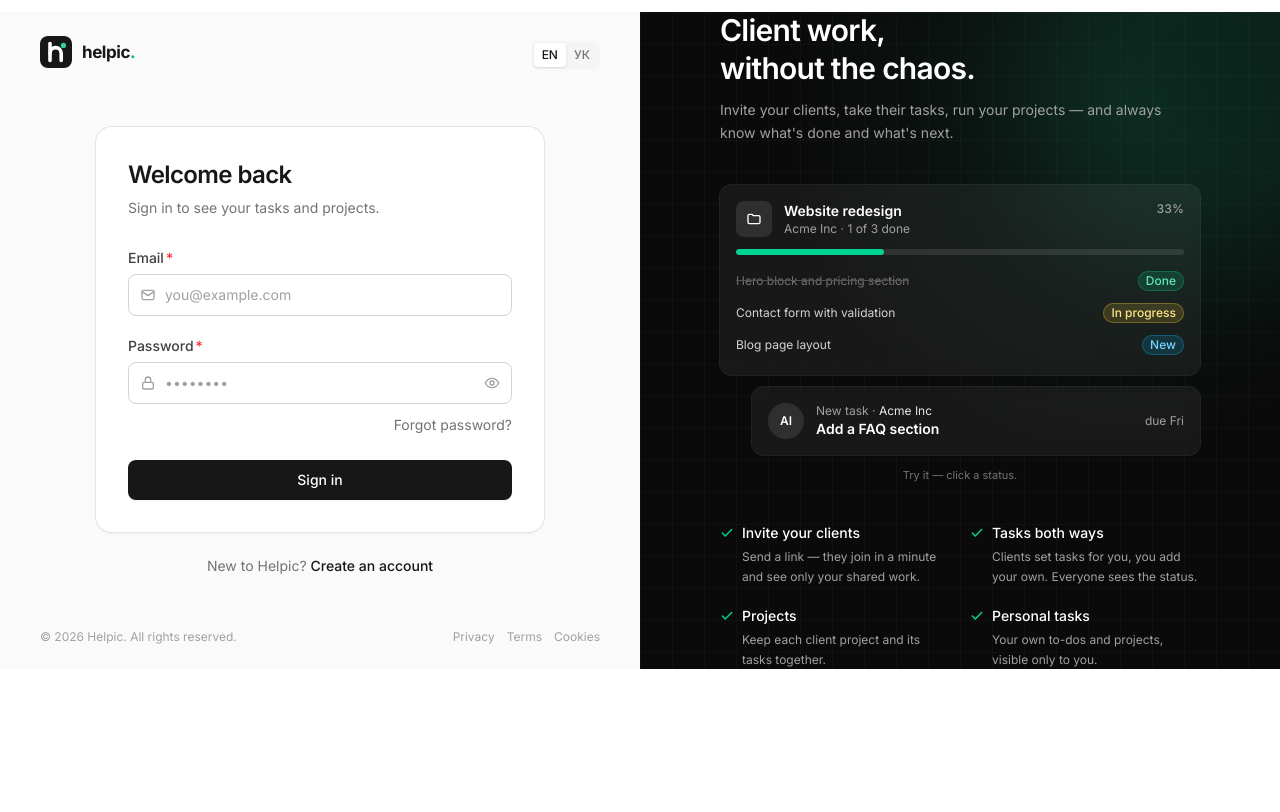
it: LoginView › shows a refused sign-in on the form
In the field labelled "Email*": x=320, y=295 [128, 274, 512, 316], type "olena@example.test"
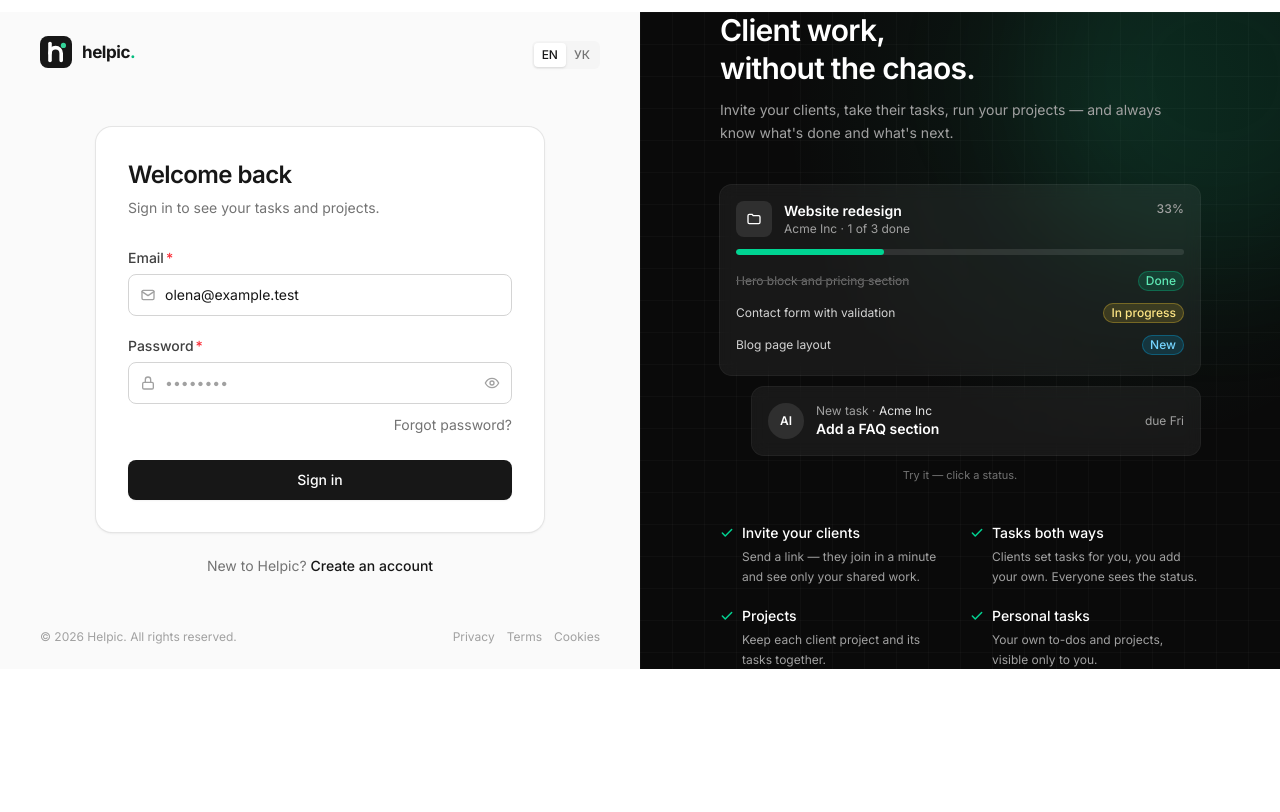
In the password field labelled "Password*": x=320, y=383 [128, 362, 512, 404], type "nope"
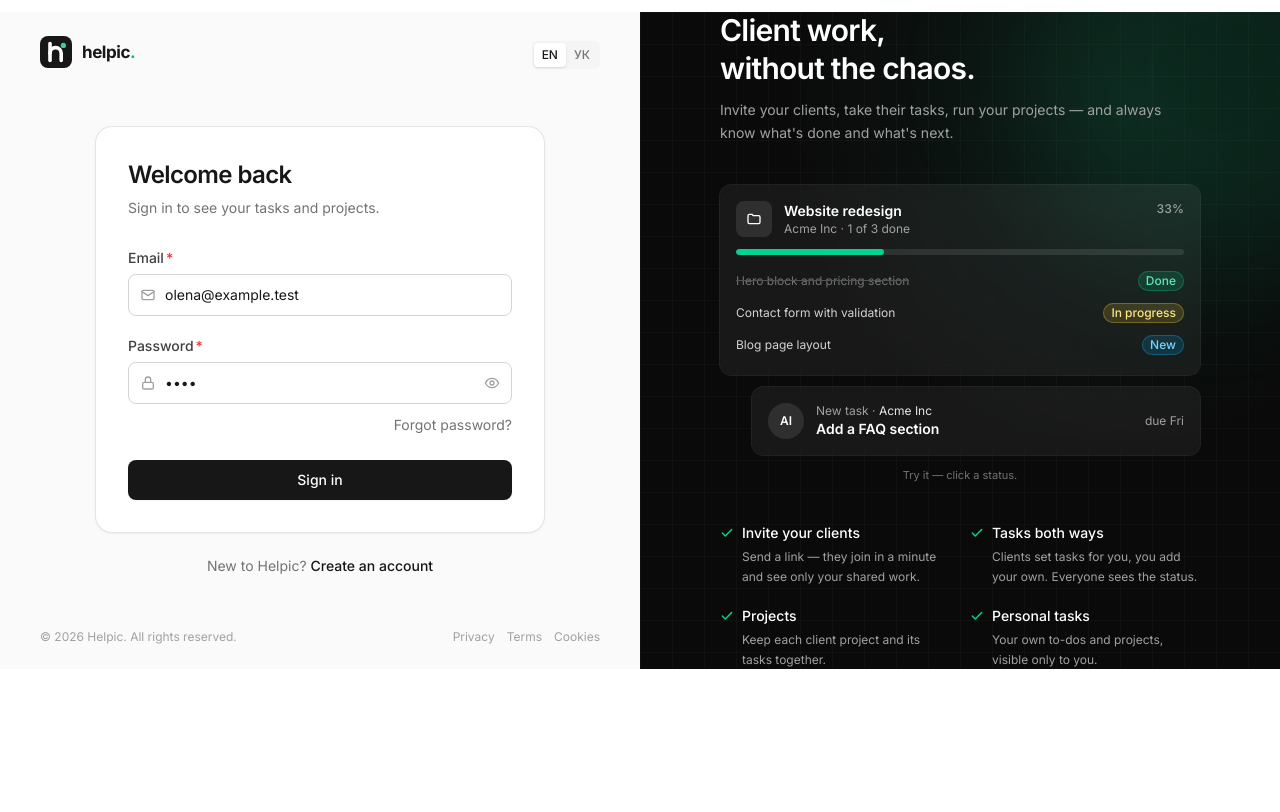
Submit the form, box [128, 248, 512, 500]
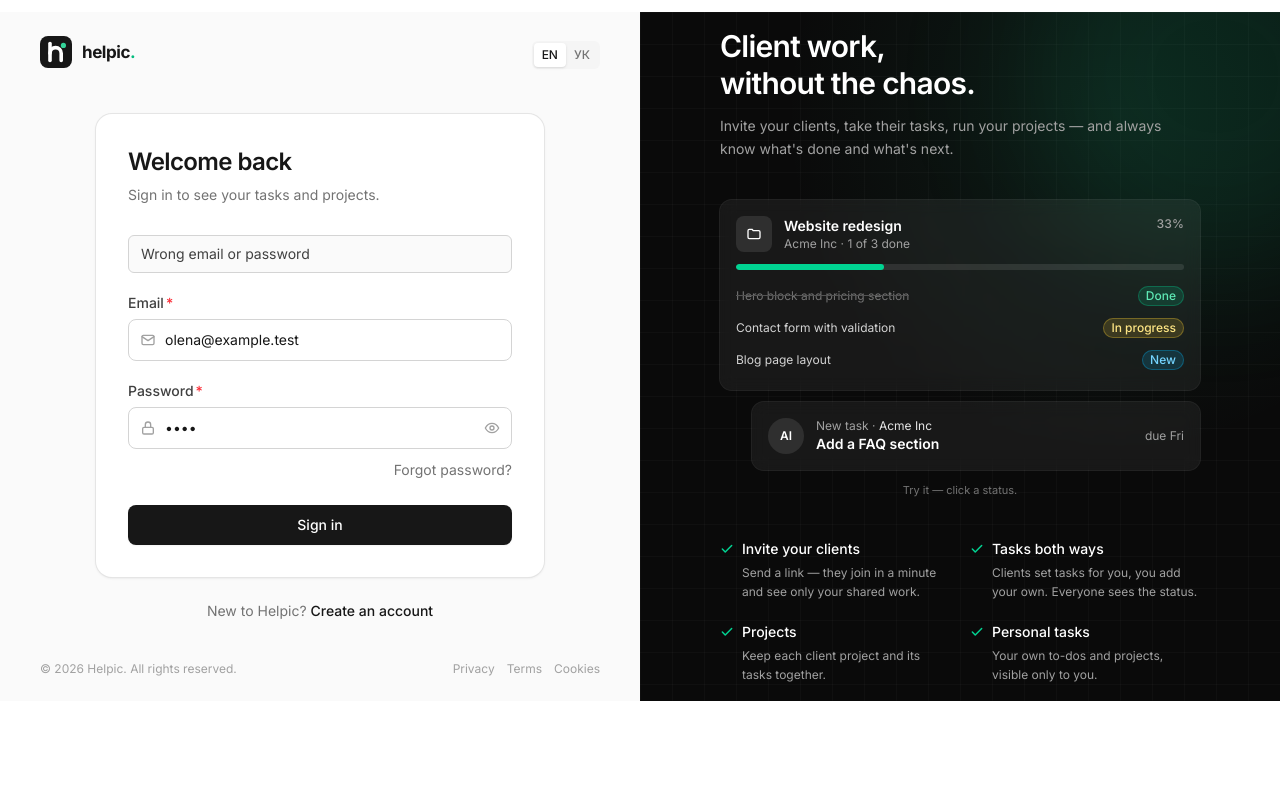
expect the text "Wrong email or password" is shown: met, box [128, 235, 512, 273]
